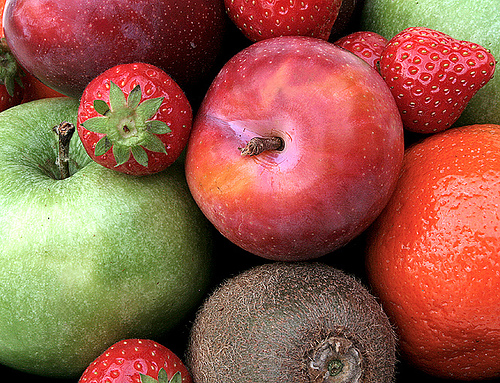apple: (191, 37, 404, 263), (0, 0, 227, 103)
